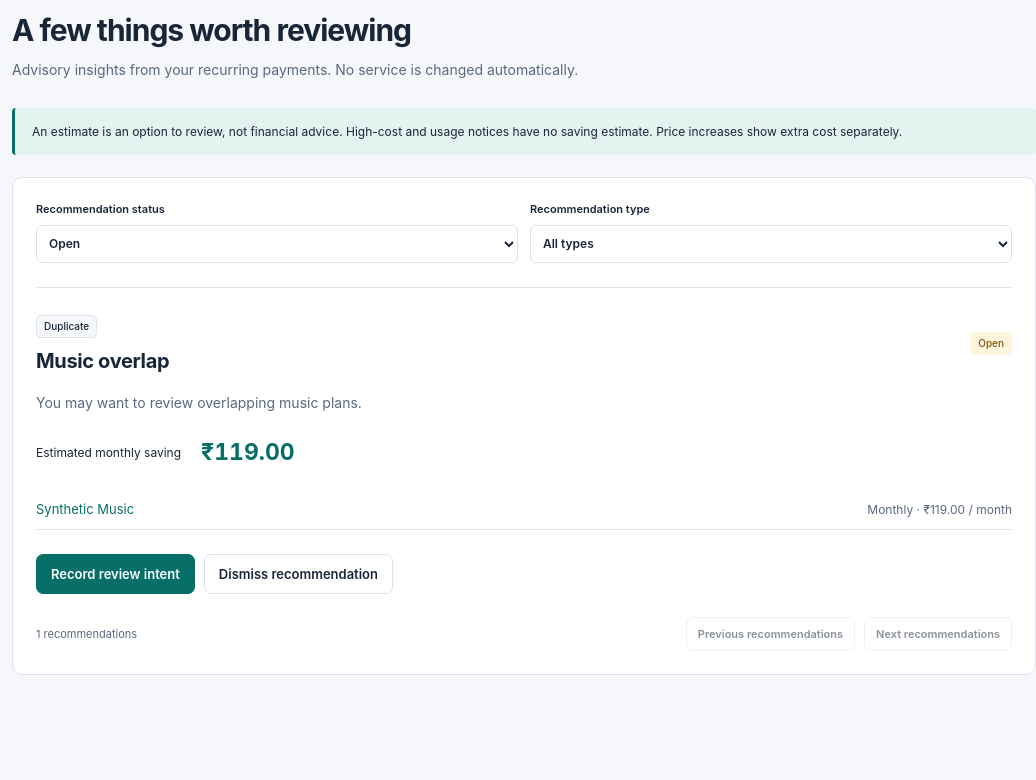
accept waits for server acknowledgement and records intent only
Expected: the text "₹119.00" is shown, x1=201 y1=435 x2=295 y2=470
Click the button "Record review intent" at (115, 574), box x1=36 y1=554 x2=195 y2=594
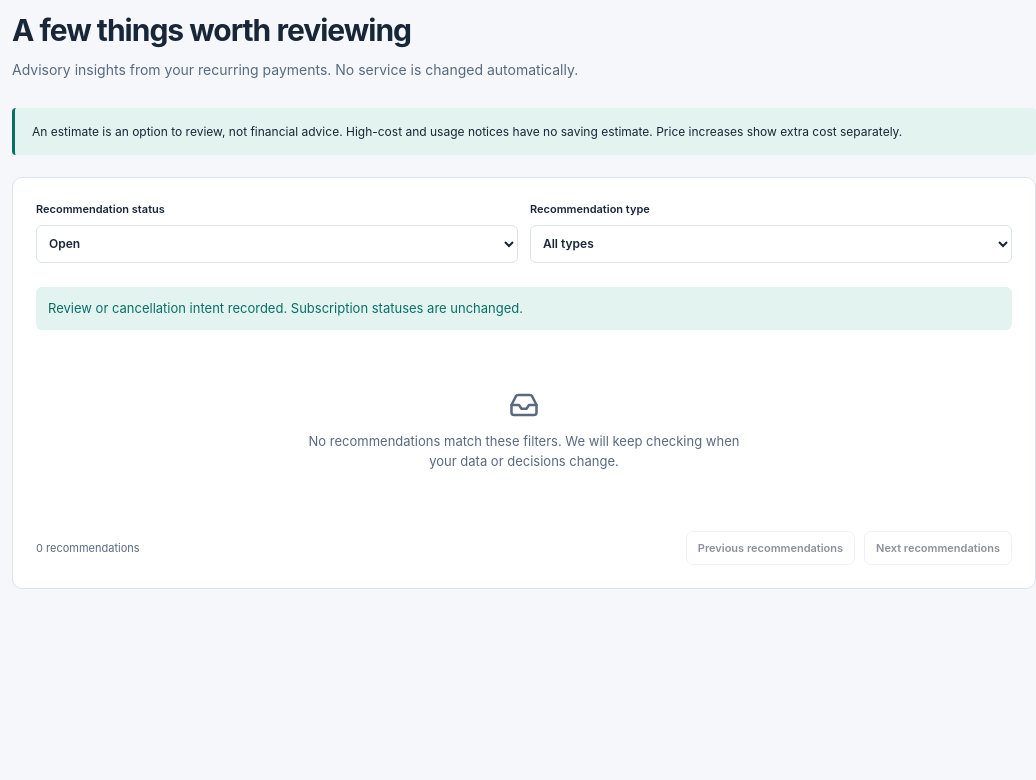
Expected: the text "Review or cancellation intent recorded. Subscription statuses are unchanged." is shown, x1=36 y1=287 x2=1012 y2=330
Expected: the text "No recommendations match" is shown, x1=309 y1=433 x2=739 y2=469
